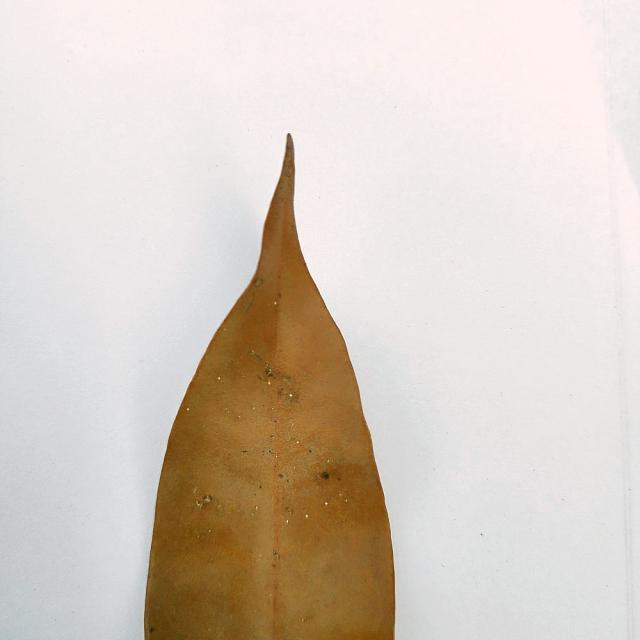Dry_Leaf-Lychee: (143, 136, 396, 639)
